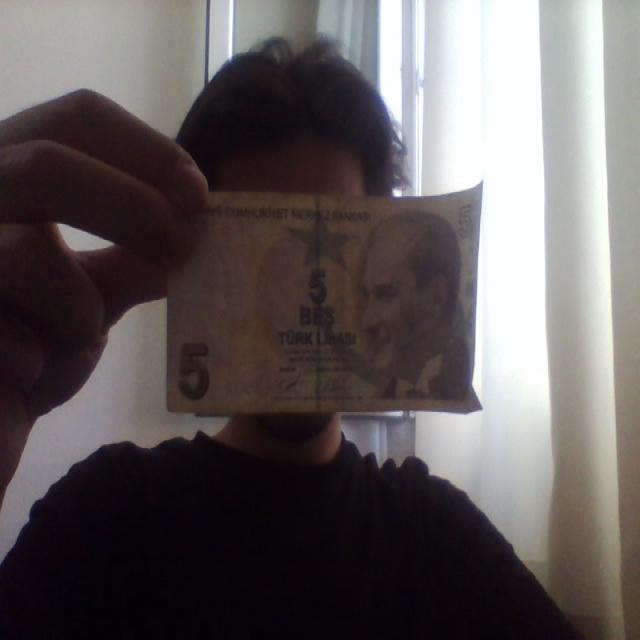5-TL: (164, 191, 492, 418)
